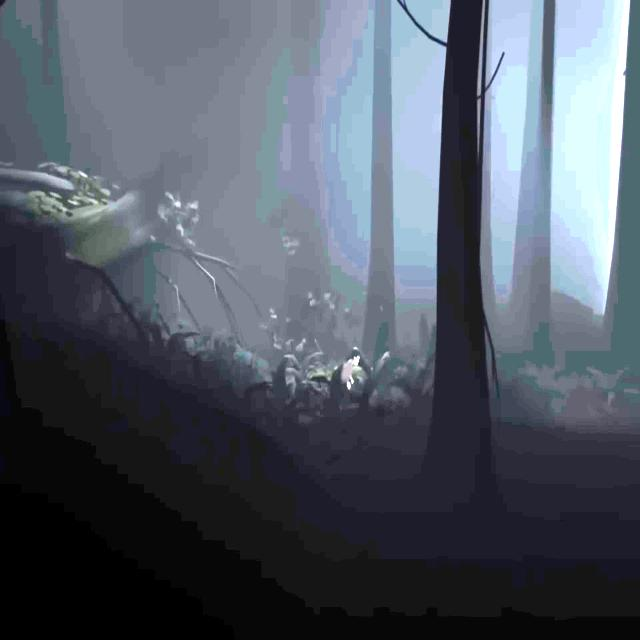boy: (342, 347, 359, 390)
